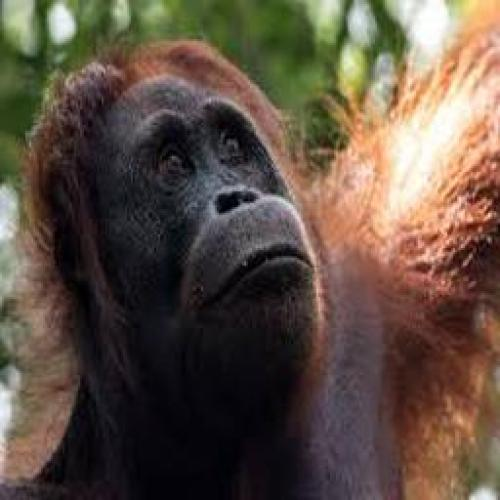orangutan-endangered: (4, 13, 500, 477)
